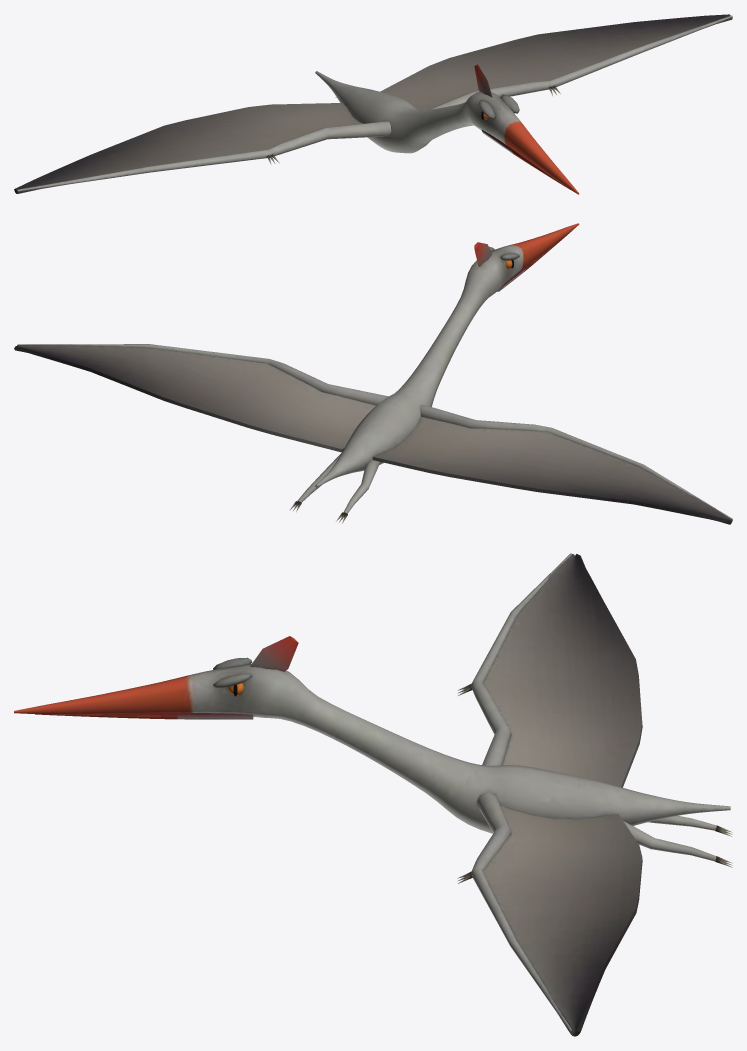
File: quetzalcoatlus.glb
The picture shows the model from 3 angles, top to bottom: view 1: azimuth 30°, elevation 25°; view 2: azimuth 150°, elevation 25°; view 3: azimuth 270°, elevation 25°; orthographic projection. The views are drawn at different scales.
Parts seen in each view (by area): view 1: Quetzalcoatlus; view 2: Quetzalcoatlus; view 3: Quetzalcoatlus.
Part boxes in pixels (x1=…): Quetzalcoatlus: x1=14, y1=14, x2=732, y2=194; Quetzalcoatlus: x1=14, y1=223, x2=732, y2=524; Quetzalcoatlus: x1=14, y1=553, x2=732, y2=1036.
Size of the model in its own units: 11.14 by 2.33 by 7.1.
1 material, 1 textured.
